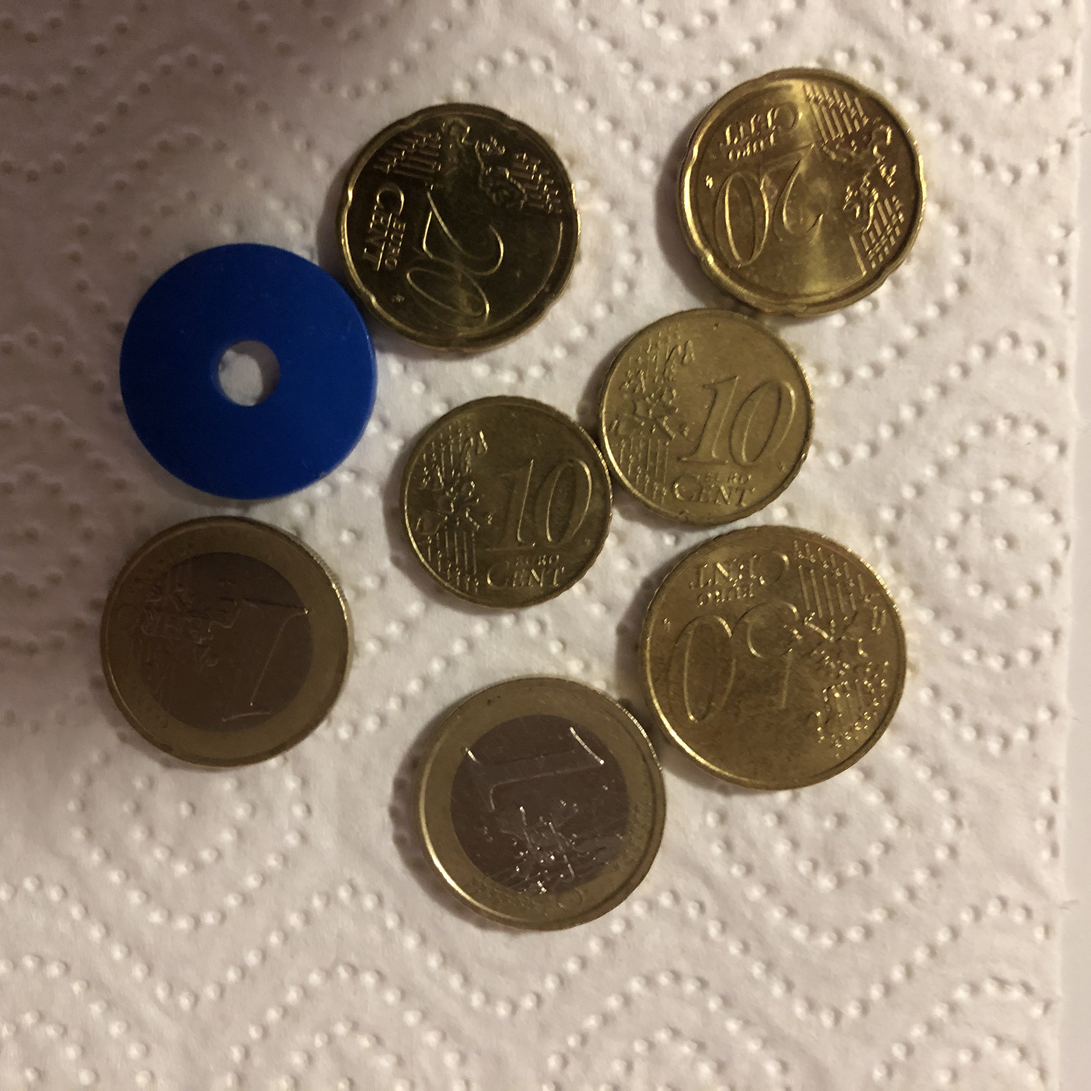1 euro: (403, 677, 670, 933), (93, 516, 359, 771)
10 cent: (335, 96, 583, 356), (677, 64, 925, 324), (397, 391, 615, 612), (601, 304, 819, 525)
50 cent: (631, 522, 905, 794)
